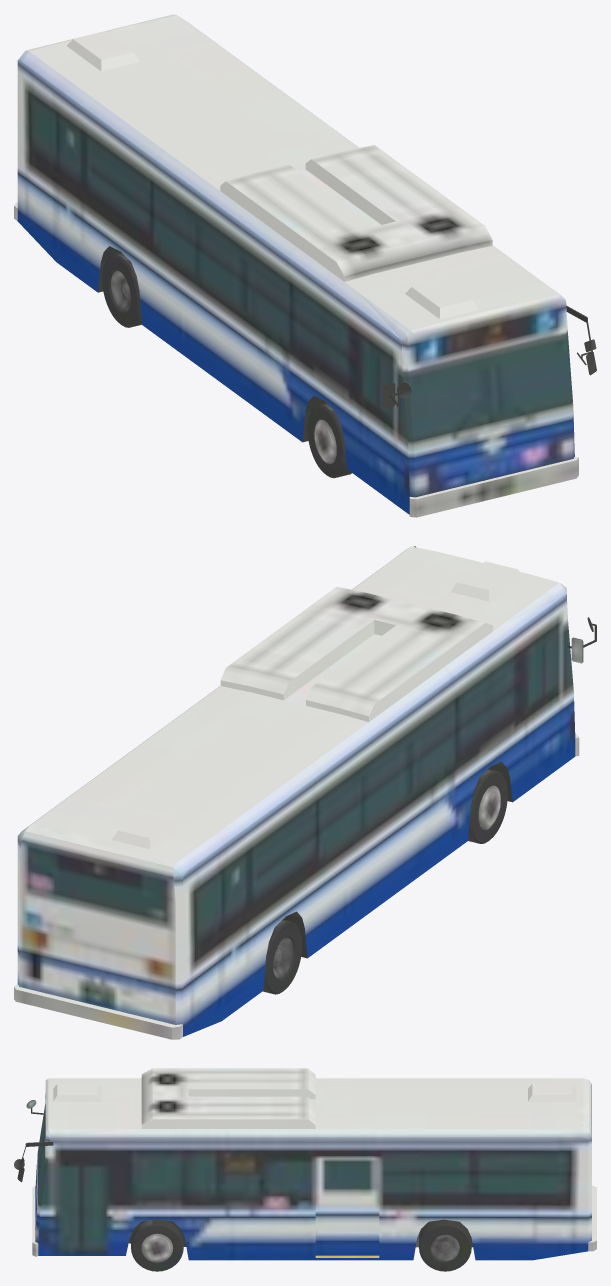
Rendered from bus_lo.glb.
3 views of the same model, one above another, from view 1: azimuth 30°, elevation 25°; view 2: azimuth 150°, elevation 25°; view 3: azimuth 270°, elevation 25° (orthographic). The views are drawn at different scales.
Parts seen in each view (by area): view 1: BODY, W2, W3; view 2: BODY, W2, W3; view 3: BODY, W1, W0.
Part boxes in pixels (x1,y1,x2,y2): BODY: (14, 14, 596, 517); W2: (307, 403, 351, 478); W3: (102, 252, 141, 327); BODY: (14, 546, 596, 1039); W2: (468, 769, 507, 843); W3: (263, 919, 302, 994); BODY: (14, 1068, 596, 1260); W1: (419, 1219, 471, 1271); W0: (131, 1219, 183, 1271).
Bounding box in the file's own units: 2.94 × 3.15 × 11.
Materials: 1 (1 with a texture image).
